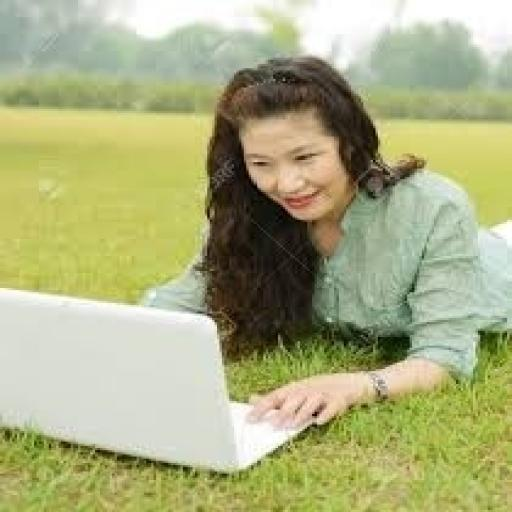using_laptop: (0, 277, 327, 476)
